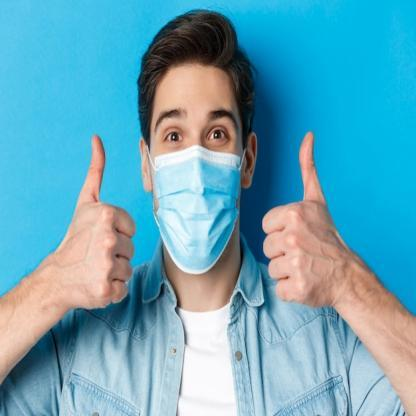thumb_up: (260, 126, 341, 312), (70, 131, 141, 318)
